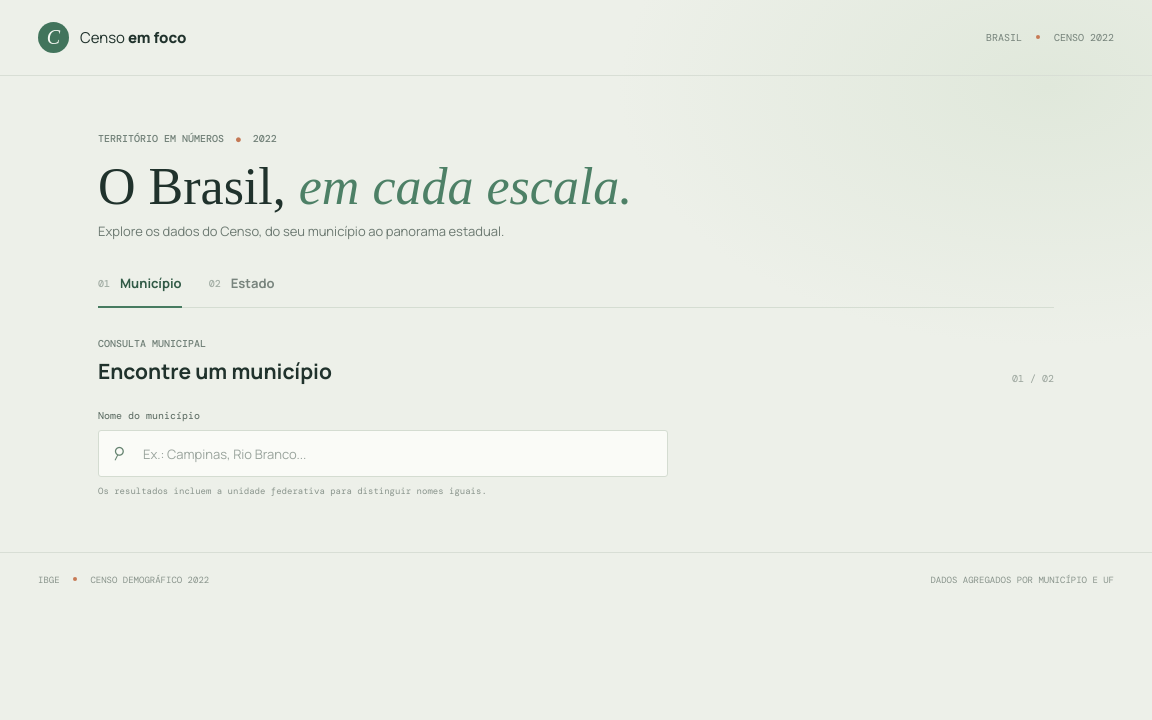
navegação › apresenta telas distintas para município e estado
Check: the heading "Encontre um município" is shown, box [98, 357, 332, 385]
Step 1. Click the button "02 Estado" → (242, 291), box [209, 274, 274, 307]
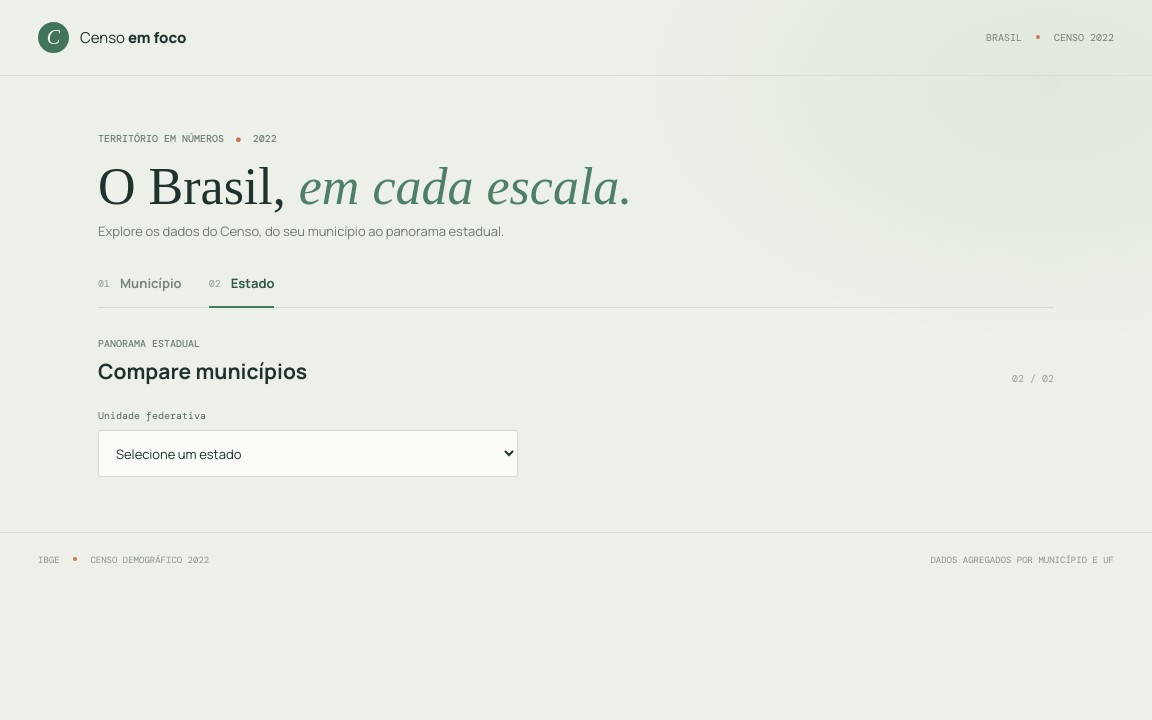
Check: the heading "Compare municípios" is shown, box [98, 357, 307, 385]
Check: the dropdown labelled "Unidade federativa" is shown, box [98, 430, 518, 477]
